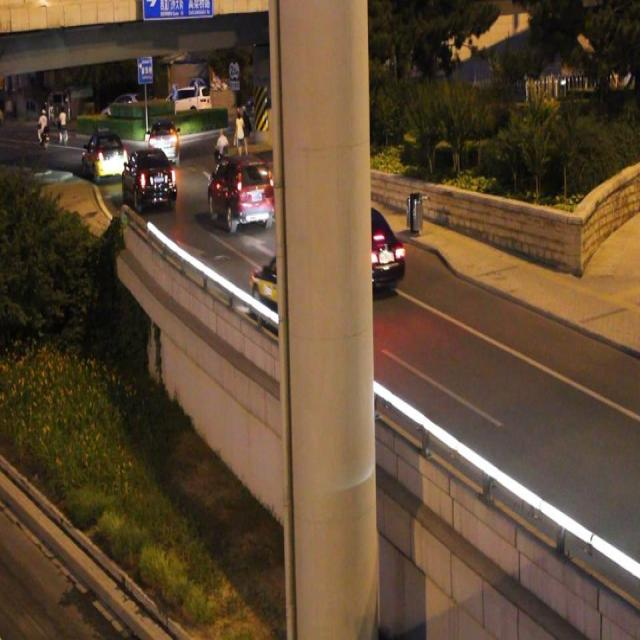car: (250, 243, 359, 347), (309, 204, 405, 294), (206, 152, 275, 231), (122, 146, 177, 211)
